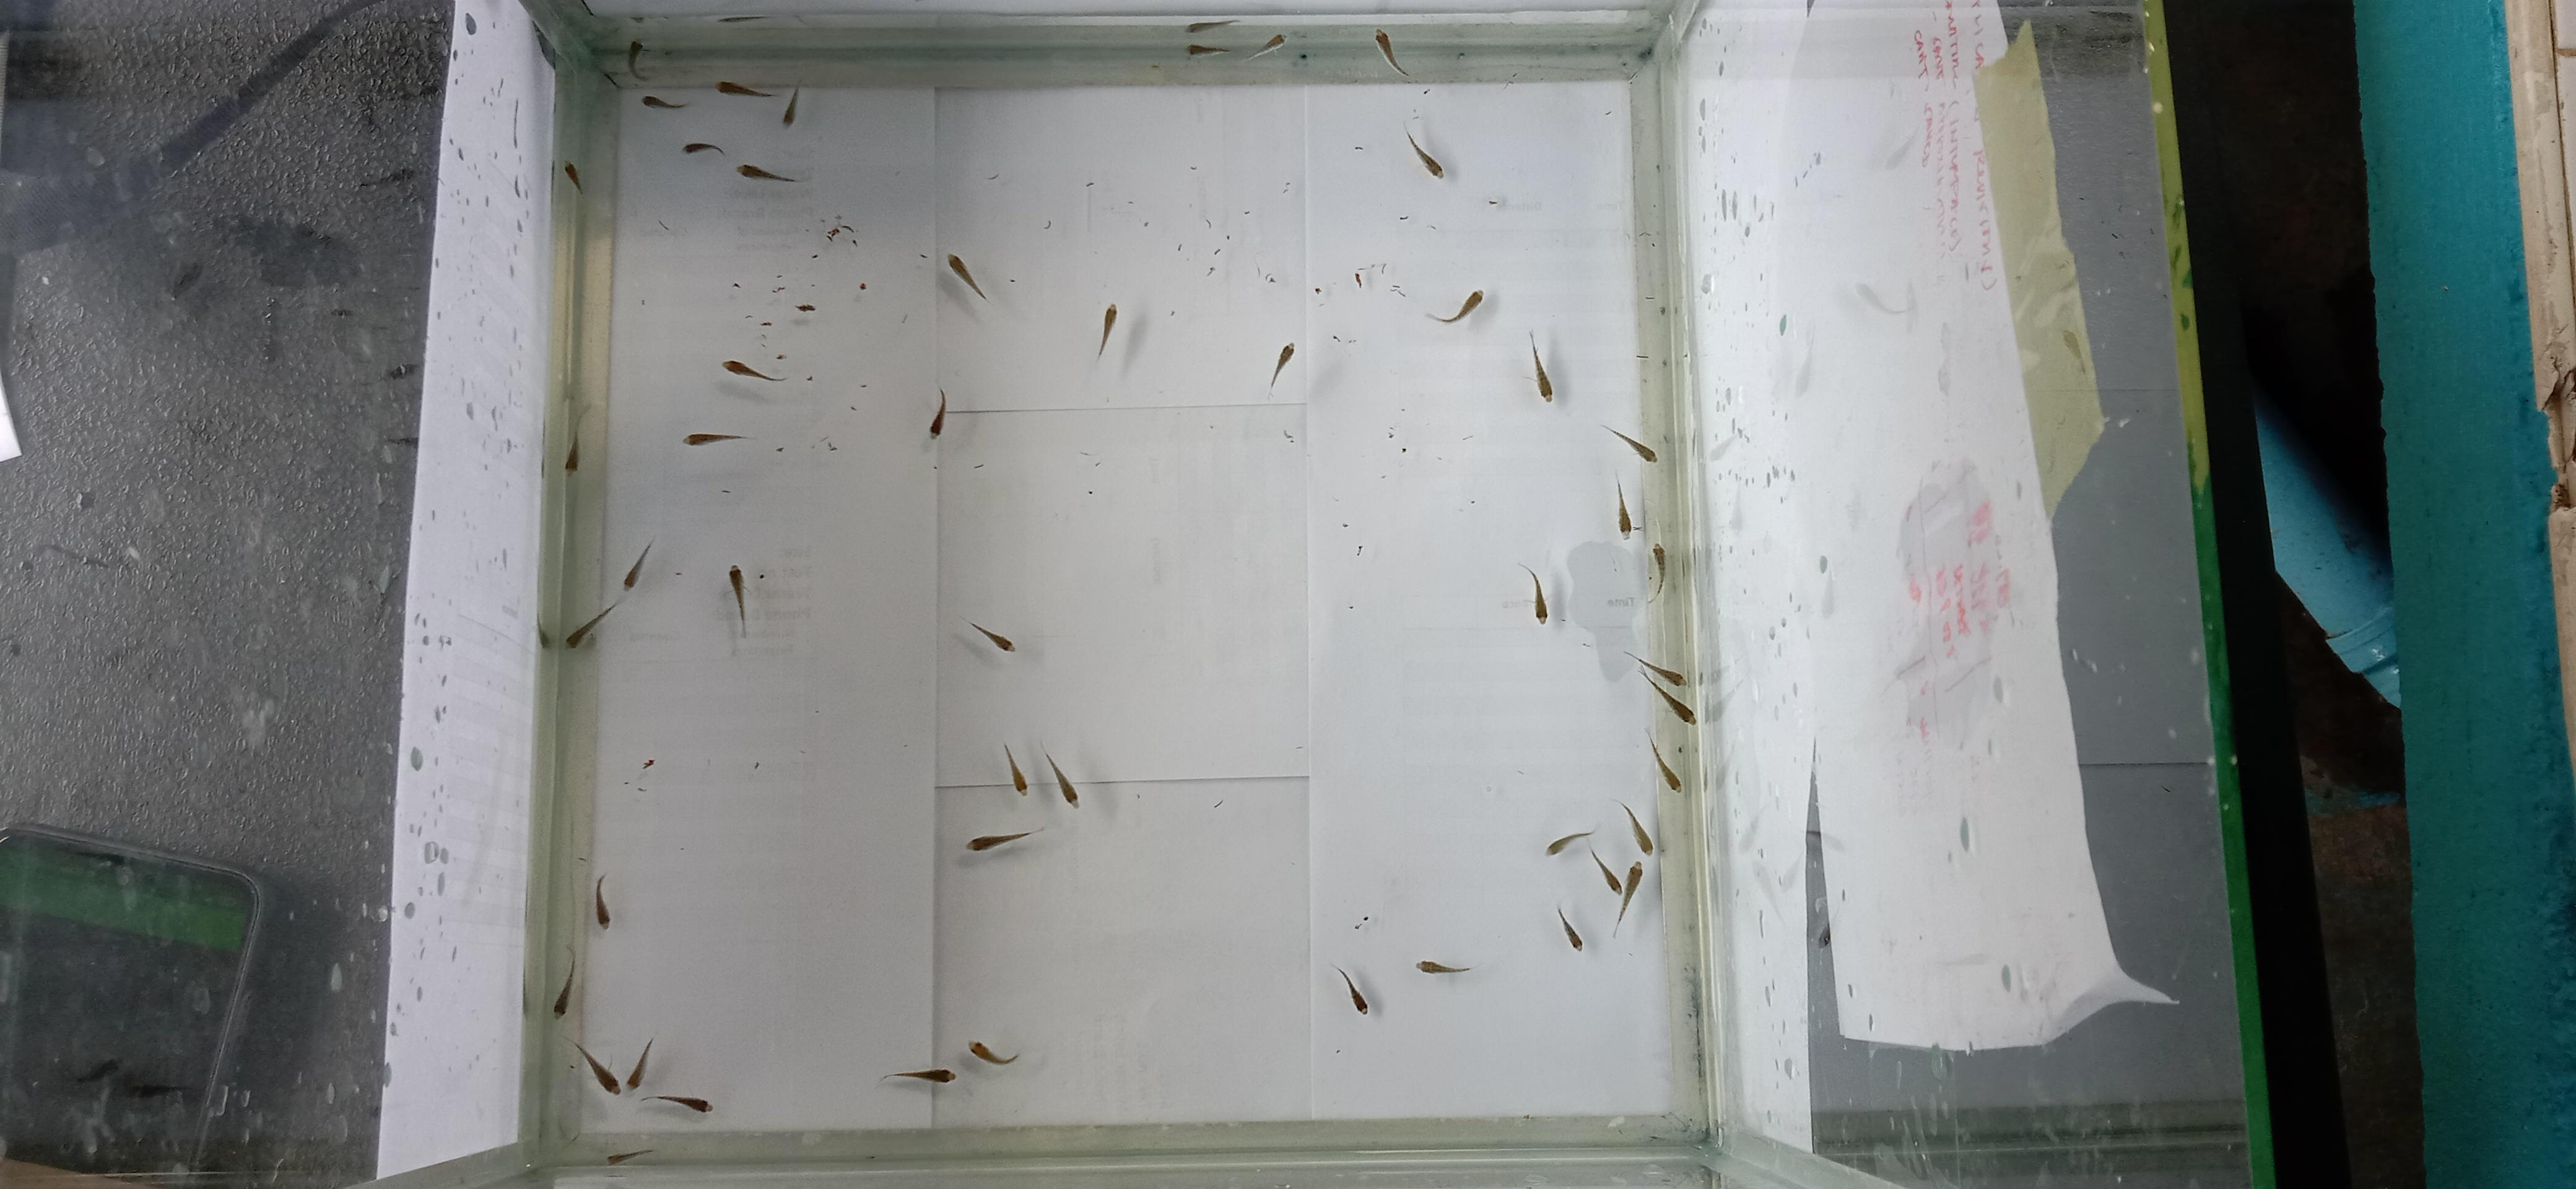fish: (567, 1039, 619, 1094), (565, 599, 621, 650), (1612, 861, 1645, 936), (1645, 679, 1695, 725), (1646, 730, 1682, 793), (1601, 424, 1658, 464), (1624, 651, 1684, 687), (1404, 128, 1443, 180), (1617, 801, 1655, 855), (967, 827, 1046, 852), (946, 252, 986, 302), (1043, 751, 1079, 806), (1426, 289, 1484, 323), (1518, 562, 1549, 625), (1529, 332, 1554, 401), (1333, 964, 1368, 1013), (1373, 28, 1409, 77), (1588, 848, 1622, 895), (624, 1038, 653, 1091), (968, 620, 1014, 653), (623, 540, 653, 590), (531, 612, 558, 666), (1546, 828, 1597, 856), (727, 564, 747, 635), (552, 959, 575, 1019), (1268, 341, 1294, 393), (967, 1039, 1018, 1066), (1003, 742, 1028, 795), (643, 1095, 710, 1115), (736, 162, 796, 184), (884, 1068, 955, 1085), (1096, 302, 1117, 360), (1557, 907, 1583, 949), (1648, 542, 1666, 600), (1354, 261, 1388, 292), (715, 79, 772, 97), (1615, 479, 1633, 536), (928, 387, 946, 439), (1416, 957, 1469, 975), (594, 873, 611, 930), (1251, 32, 1284, 60), (683, 432, 743, 446), (1186, 19, 1239, 35), (627, 39, 648, 77), (607, 1148, 653, 1165), (781, 86, 799, 128), (641, 94, 687, 109), (563, 160, 583, 194), (724, 359, 759, 377), (683, 141, 724, 155), (1186, 44, 1227, 58), (563, 437, 579, 473), (603, 71, 622, 91)
